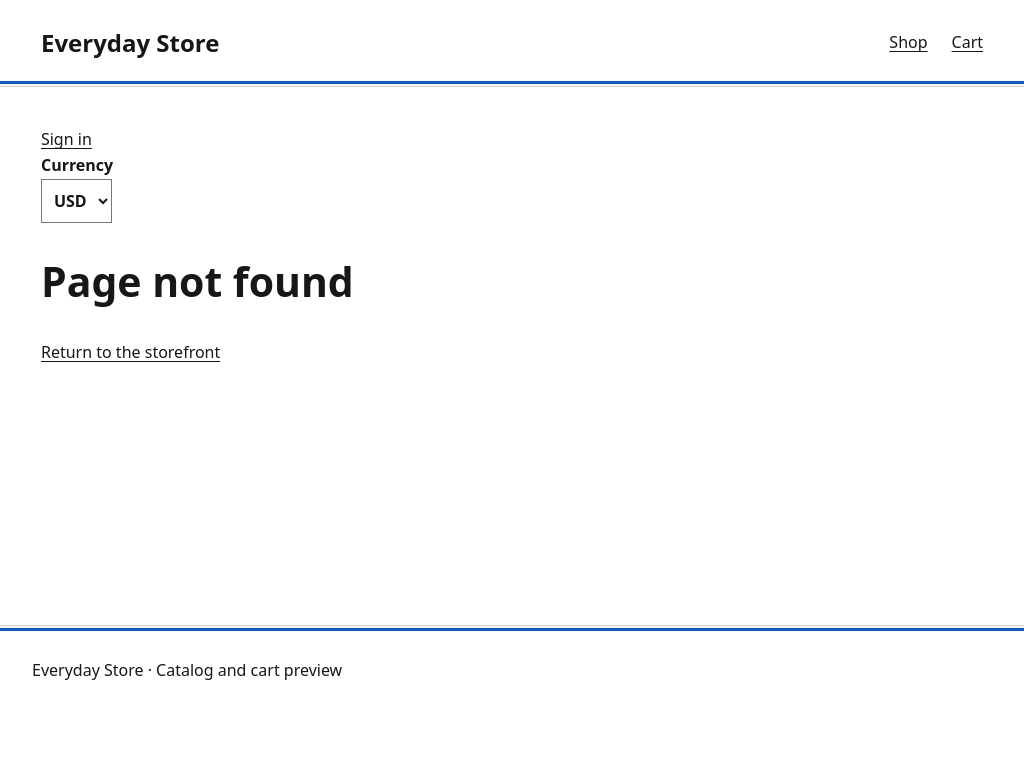
Scenario: storefront composition › offers route recovery and keyboard navigation
Expected: the heading "Page not found" is shown, [41,253,354,309]
Click the link "Return to the storefront" at (131, 352), box [41,341,220,363]
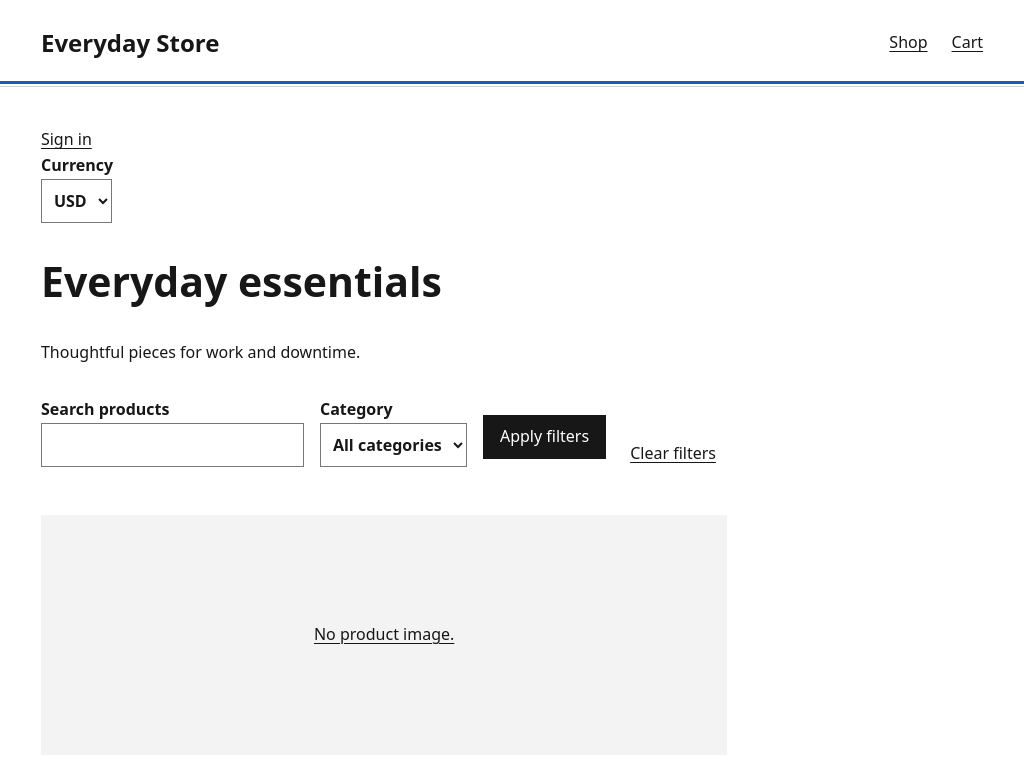
Expected: the heading "Everyday essentials" is shown, [41,253,442,309]
